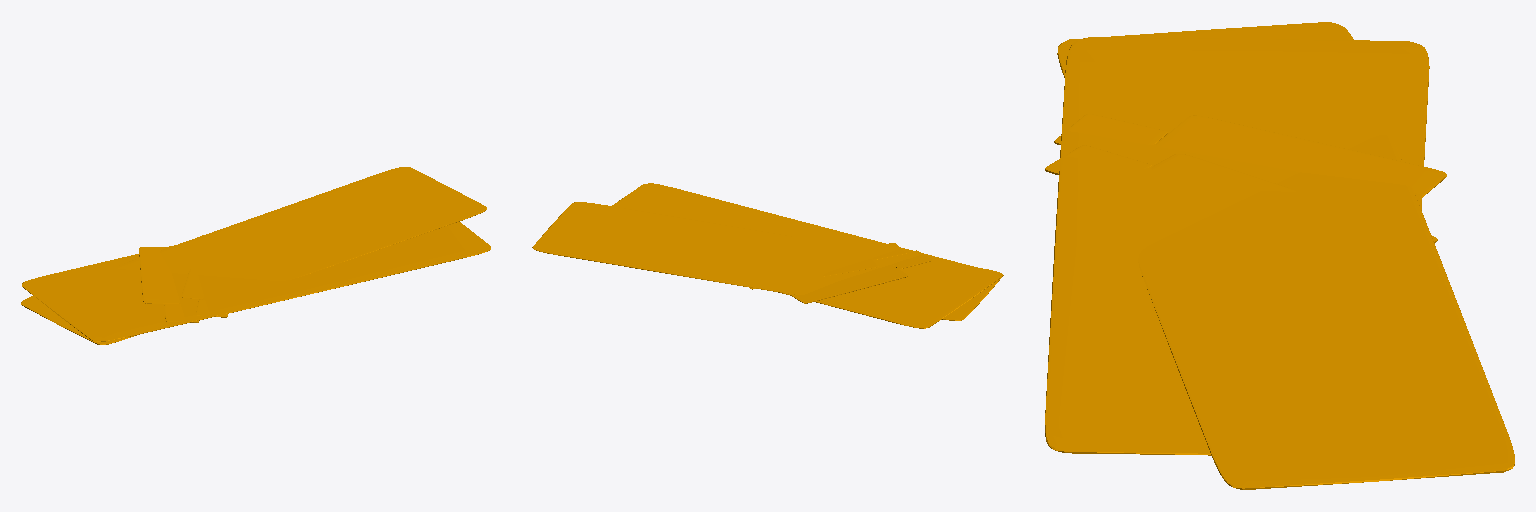
URDF robot description (scene):
<?xml version='1.0' encoding='utf-8'?>
<robot name="scene"><link name="scene_link"><visual><origin xyz="0.000000 0.000000 0.000000" rpy="0.000000 -0.000000 0.000000" /><geometry><mesh filename="part_000.obj" /></geometry></visual><collision><origin xyz="0.000000 0.000000 0.000000" rpy="0.000000 -0.000000 0.000000" /><geometry><mesh filename="part_000.obj" /></geometry></collision><visual><origin xyz="0.000000 0.000000 0.000000" rpy="0.000000 -0.000000 0.000000" /><geometry><mesh filename="part_001.obj" /></geometry></visual><collision><origin xyz="0.000000 0.000000 0.000000" rpy="0.000000 -0.000000 0.000000" /><geometry><mesh filename="part_001.obj" /></geometry></collision><visual><origin xyz="0.000000 0.000000 0.000000" rpy="0.000000 -0.000000 0.000000" /><geometry><mesh filename="part_002.obj" /></geometry></visual><collision><origin xyz="0.000000 0.000000 0.000000" rpy="0.000000 -0.000000 0.000000" /><geometry><mesh filename="part_002.obj" /></geometry></collision><visual><origin xyz="0.000000 0.000000 0.000000" rpy="0.000000 -0.000000 0.000000" /><geometry><mesh filename="part_003.obj" /></geometry></visual><collision><origin xyz="0.000000 0.000000 0.000000" rpy="0.000000 -0.000000 0.000000" /><geometry><mesh filename="part_003.obj" /></geometry></collision><visual><origin xyz="0.000000 0.000000 0.000000" rpy="0.000000 -0.000000 0.000000" /><geometry><mesh filename="part_004.obj" /></geometry></visual><collision><origin xyz="0.000000 0.000000 0.000000" rpy="0.000000 -0.000000 0.000000" /><geometry><mesh filename="part_004.obj" /></geometry></collision><visual><origin xyz="0.000000 0.000000 0.000000" rpy="0.000000 -0.000000 0.000000" /><geometry><mesh filename="part_005.obj" /></geometry></visual><collision><origin xyz="0.000000 0.000000 0.000000" rpy="0.000000 -0.000000 0.000000" /><geometry><mesh filename="part_005.obj" /></geometry></collision><visual><origin xyz="0.000000 0.000000 0.000000" rpy="0.000000 -0.000000 0.000000" /><geometry><mesh filename="part_006.obj" /></geometry></visual><collision><origin xyz="0.000000 0.000000 0.000000" rpy="0.000000 -0.000000 0.000000" /><geometry><mesh filename="part_006.obj" /></geometry></collision><visual><origin xyz="0.000000 0.000000 0.000000" rpy="0.000000 -0.000000 0.000000" /><geometry><mesh filename="part_007.obj" /></geometry></visual><collision><origin xyz="0.000000 0.000000 0.000000" rpy="0.000000 -0.000000 0.000000" /><geometry><mesh filename="part_007.obj" /></geometry></collision><visual><origin xyz="0.000000 0.000000 0.000000" rpy="0.000000 -0.000000 0.000000" /><geometry><mesh filename="part_008.obj" /></geometry></visual><collision><origin xyz="0.000000 0.000000 0.000000" rpy="0.000000 -0.000000 0.000000" /><geometry><mesh filename="part_008.obj" /></geometry></collision><visual><origin xyz="0.000000 0.000000 0.000000" rpy="0.000000 -0.000000 0.000000" /><geometry><mesh filename="part_009.obj" /></geometry></visual><collision><origin xyz="0.000000 0.000000 0.000000" rpy="0.000000 -0.000000 0.000000" /><geometry><mesh filename="part_009.obj" /></geometry></collision></link></robot>

--- What the picture shows (computed from the rendered views, not written in the file) ---
3 views of the same robot in one strip: view 1: azimuth 30°, elevation 25°; view 2: azimuth 150°, elevation 25°; view 3: azimuth 270°, elevation 25° (orthographic).
Robot: scene — 1 links, 0 joints (none); root link scene_link; default pose: every joint at zero.
Links seen in each view (by area): view 1: scene_link; view 2: scene_link; view 3: scene_link.
Link boxes in pixels (box(x1,y1,x2,y2)): scene_link: box(21, 167, 490, 344); scene_link: box(532, 183, 1003, 328); scene_link: box(1045, 22, 1514, 489).
Size in the robot's own frame: 20.07 by 8.43 by 0.1779 metres.
Meshes: 10 distinct files referenced, 10 mesh visuals loaded (10 OBJ).
